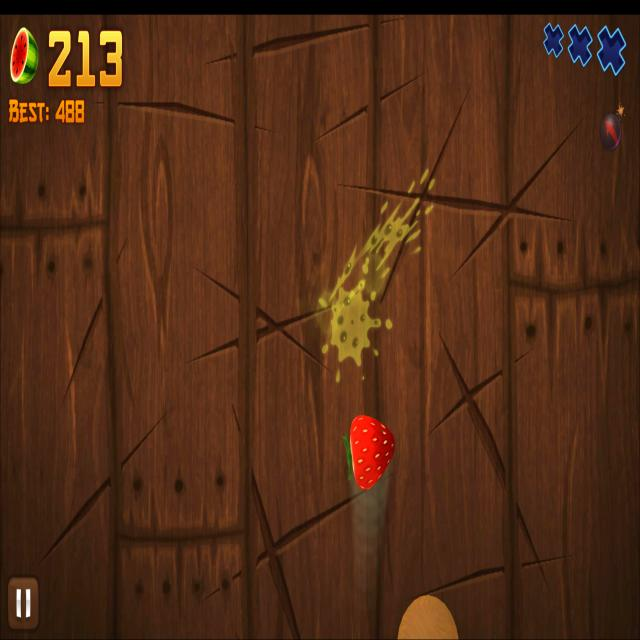fruit: (350, 415, 395, 490), (398, 594, 458, 640)
